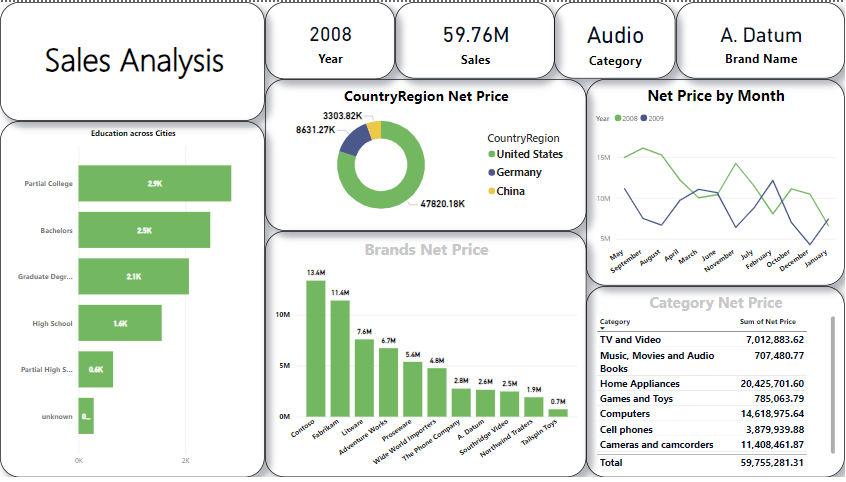

What the dashboard file says about the page in this screenshot:
{"tool":"powerbi","page":{"name":"Page 1","canvas":[1280,720],"ordinal":0},"visuals":[{"type":"columnChart","title":"Brands Net Price","fields":{"Category":["Forecasted Data.Brand"],"Y":["Sum(Sales.Net Price)"]},"box":[401.7,346.7,486.7,373.3],"z":0},{"type":"donutChart","title":"CountryRegion Net Price","fields":{"Y":["Sum(Sales.Net Price)"],"Category":["Region.CountryRegion"]},"box":[401.7,116.7,486.7,230],"z":1000},{"type":"lineChart","title":"Net Price by Month","fields":{"Category":["Date.Month"],"Y":["Sum(Sales.Net Price)"],"Series":["Date.Year"]},"box":[888.3,116.7,391.7,313.3],"z":2000},{"type":"card","fields":{"Values":["Min(Date.Year)"]},"box":[401.7,0,196.7,116.7],"z":3000},{"type":"card","fields":{"Values":["Min(Forecasted Data.Brand)"]},"box":[1023.8,0,256.2,116.2],"z":4000},{"type":"card","fields":{"Values":["Min(Products.Category)"]},"box":[840,0,184,116],"z":5000},{"type":"card","fields":{"Values":["Sum(Sales.Net Price)"]},"box":[598,0,242,116],"z":6000},{"type":"tableEx","title":"Category Net Price","fields":{"Values":["Products.Category","Sum(Sales.Net Price)"]},"box":[888.3,430,391.7,290],"z":7000},{"type":"barChart","title":"Education across Cities","fields":{"Category":["Customers.Education"],"Y":["CountNonNull(Region.City)"]},"box":[0,180,401.4,540],"z":8000},{"type":"textbox","box":[0,0,401.4,180],"z":9000}]}

Visuals, with their boxes in screenshot pixels (x1, y1, x2, y2), scaled from the page's 1280x720 canvas onto the 846x482 screenshot:
"Brands Net Price" columnChart: locate(265, 232, 587, 481)
"CountryRegion Net Price" donutChart: locate(265, 78, 587, 232)
"Net Price by Month" lineChart: locate(587, 78, 845, 288)
card - Min(Date.Year): locate(265, 0, 396, 78)
card - Min(Forecasted Data.Brand): locate(677, 0, 845, 78)
card - Min(Products.Category): locate(555, 0, 677, 78)
card - Sum(Sales.Net Price): locate(395, 0, 555, 78)
"Category Net Price" tableEx: locate(587, 288, 845, 481)
"Education across Cities" barChart: locate(0, 120, 265, 481)
textbox: locate(0, 0, 265, 120)
